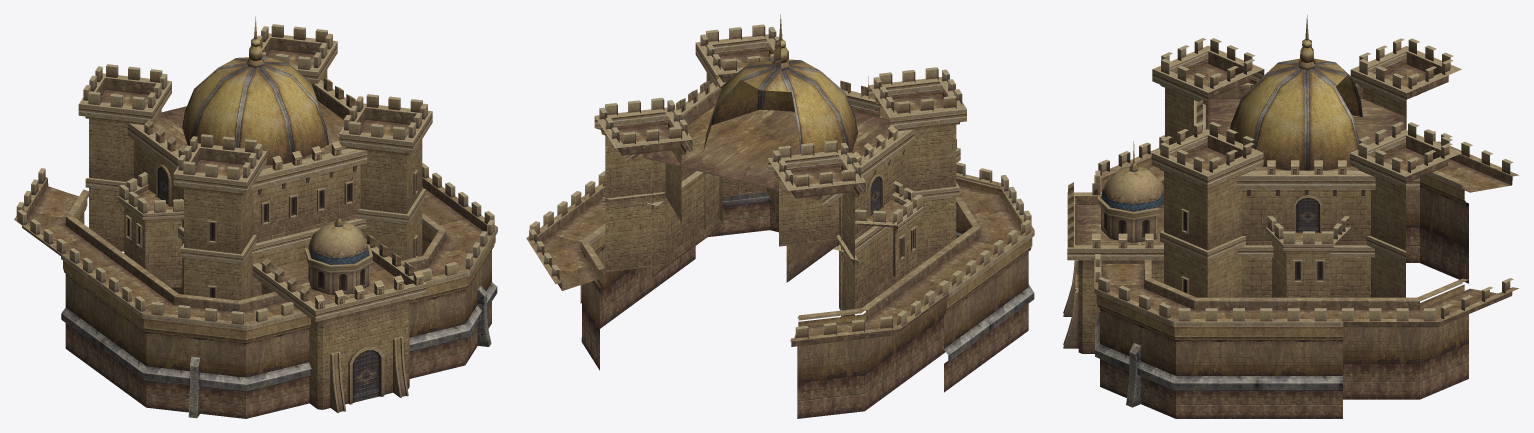
The model's file is SC_tamalagebi_01.FBX.
3 views of the same model, side by side, from view 1: azimuth 30°, elevation 25°; view 2: azimuth 150°, elevation 25°; view 3: azimuth 270°, elevation 25° (orthographic). The views are drawn at different scales.
Visible parts, largest first — view 1: SC_tamalagebi_01; view 2: SC_tamalagebi_01; view 3: SC_tamalagebi_01.
Boxes of the visible parts, x1,y1,x2,y2 form: SC_tamalagebi_01: (14, 16, 497, 418); SC_tamalagebi_01: (526, 14, 1034, 418); SC_tamalagebi_01: (1063, 15, 1519, 418).
Bounding box in the file's own units: 2554 × 2097 × 2735.
